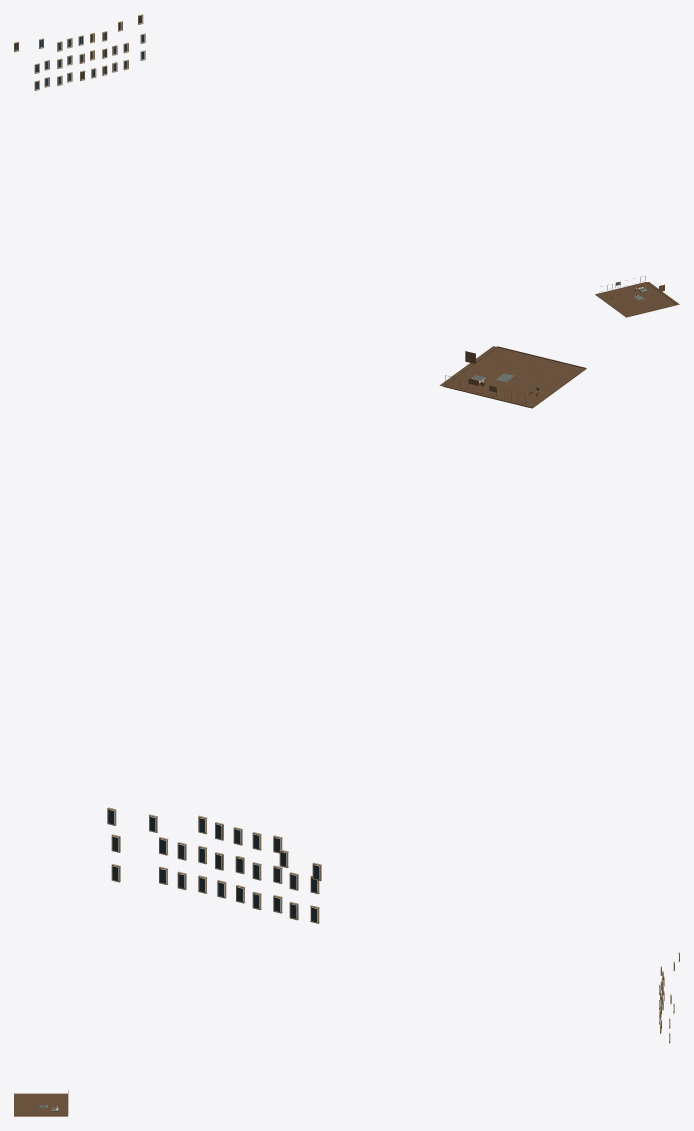
Rendered from furnishings-and-museum.glb.
The picture shows the model from 3 angles, top to bottom: view 1: azimuth 30°, elevation 25°; view 2: azimuth 150°, elevation 25°; view 3: azimuth 270°, elevation 25°; orthographic projection. The views are drawn at different scales.
Visible parts, largest first — view 1: Hostel furnishings, Museum facade study; view 2: Hostel furnishings, Museum facade study; view 3: Hostel furnishings, Museum facade study.
Part boxes in pixels (bbox=[...]): Hostel furnishings: bbox=[595, 276, 679, 317]; Museum facade study: bbox=[14, 14, 145, 90]; Hostel furnishings: bbox=[439, 346, 586, 408]; Museum facade study: bbox=[107, 807, 321, 923]; Hostel furnishings: bbox=[14, 1090, 68, 1116]; Museum facade study: bbox=[659, 952, 679, 1043].
Bounding box in the file's own units: 103 × 17.71 × 241.
